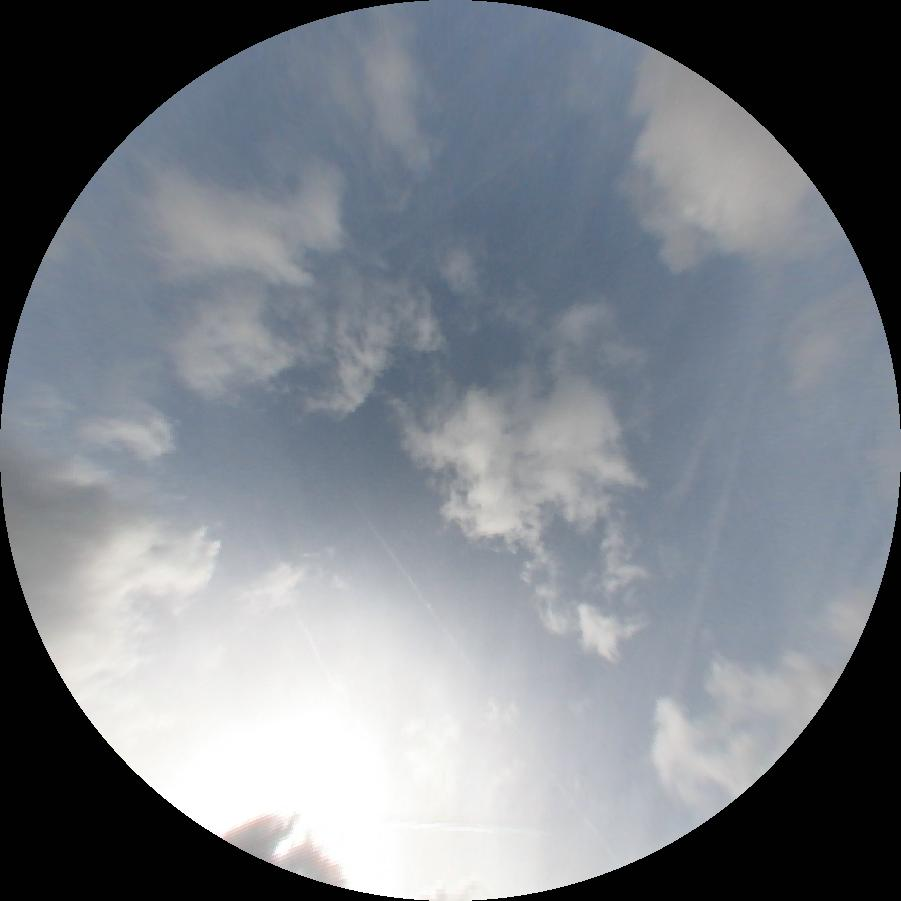contrail old: (357, 504, 598, 836)
contrail veryold: (336, 78, 632, 280)
contrail young: (383, 823, 528, 836)
sun: (132, 706, 393, 897)
unknow: (670, 352, 768, 703), (295, 611, 371, 751), (664, 408, 722, 509)
